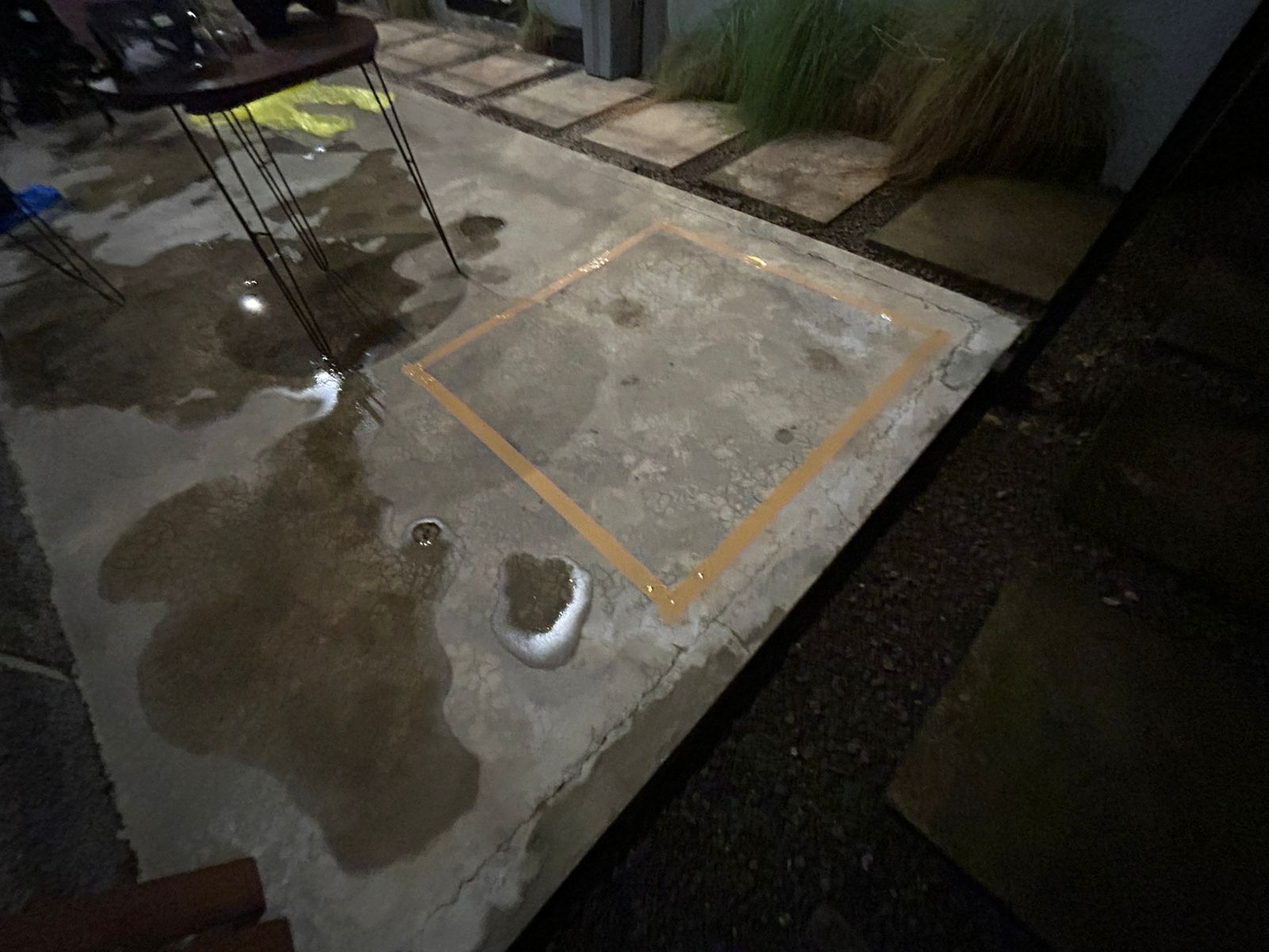floor marking: (403, 221, 949, 623)
